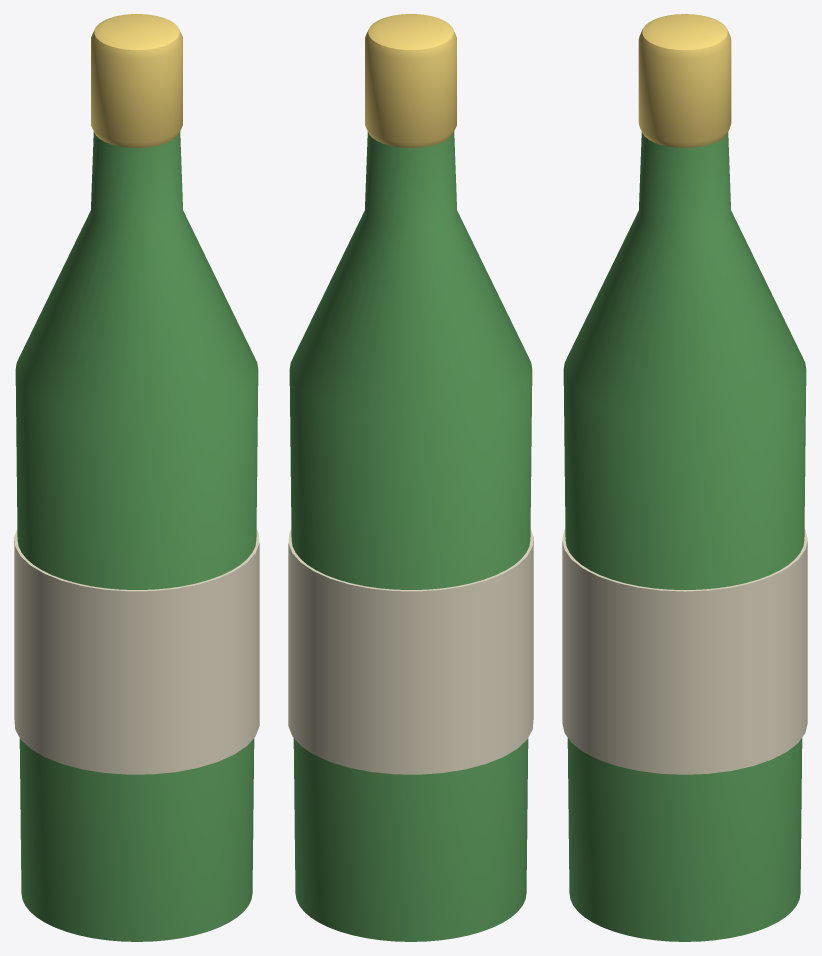
File: bottle.glb
The picture shows the model from 3 angles, left to right: view 1: azimuth 30°, elevation 25°; view 2: azimuth 150°, elevation 25°; view 3: azimuth 270°, elevation 25°; orthographic projection.
Visible parts, largest first — view 1: bottle, label, foil; view 2: bottle, label, foil; view 3: bottle, label, foil.
Boxes of the visible parts, bbox=[...] form: bottle: bbox=[15, 132, 258, 941]; label: bbox=[14, 529, 259, 774]; foil: bbox=[91, 14, 182, 148]; bottle: bbox=[289, 132, 532, 941]; label: bbox=[288, 529, 533, 774]; foil: bbox=[365, 14, 456, 148]; bottle: bbox=[563, 132, 806, 941]; label: bbox=[562, 529, 807, 774]; foil: bbox=[638, 14, 731, 147].
Size of the model in its own units: 0.085 by 0.33 by 0.085.
